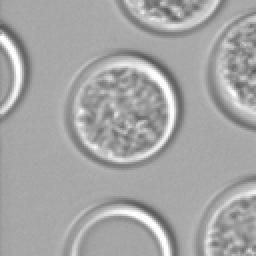picoshell: (66, 52, 178, 164), (62, 198, 176, 254), (206, 12, 254, 128), (196, 176, 254, 254), (118, 0, 222, 32), (0, 22, 28, 120)
